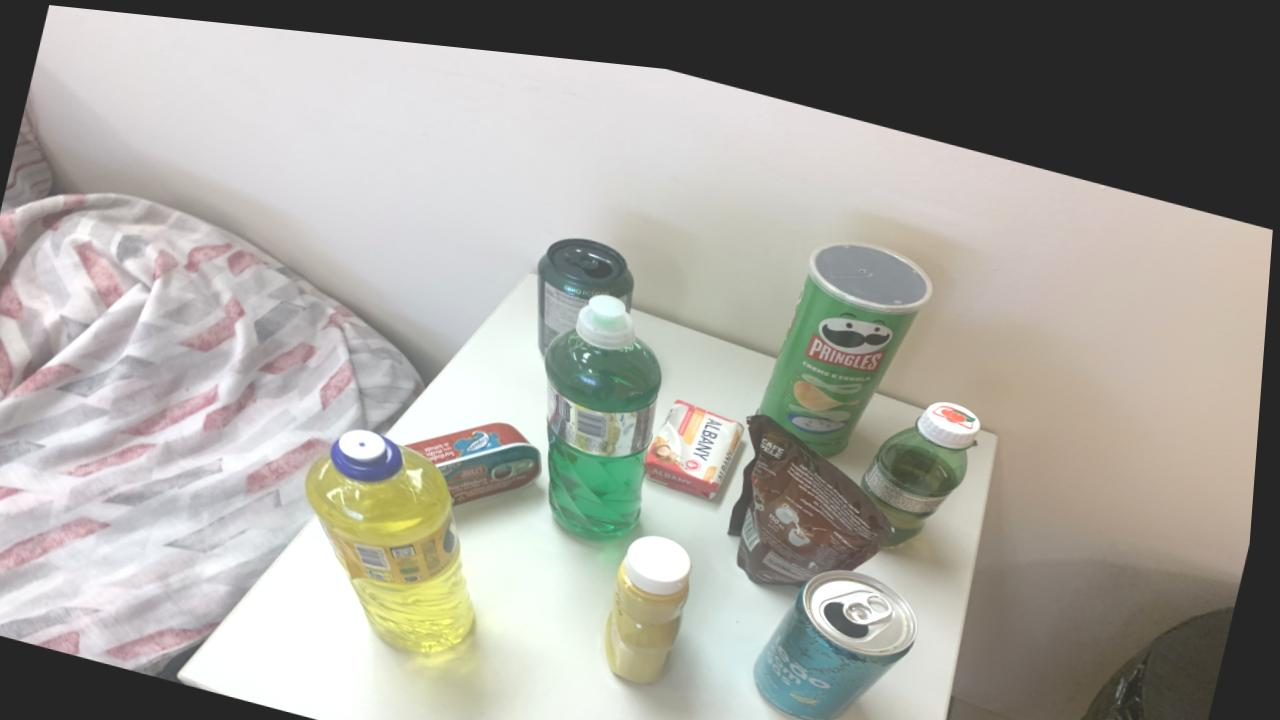Coffee-Pantry_Items: (736, 396, 899, 566)
Detergent-Cleanup_Items: (312, 420, 483, 641), (549, 281, 667, 525)
Guarana-Drinks: (868, 380, 987, 525)
Guarana_Can-Drinks: (540, 225, 638, 339)
Mustard-Pantry_Items: (613, 520, 700, 668)
Pringles-Snacks: (765, 222, 937, 437)
Soap-Cleanup_Items: (651, 384, 748, 482)
Tea-Drinks: (762, 549, 926, 702)
Tuna_Can-Pantry_Items: (415, 410, 548, 493)
